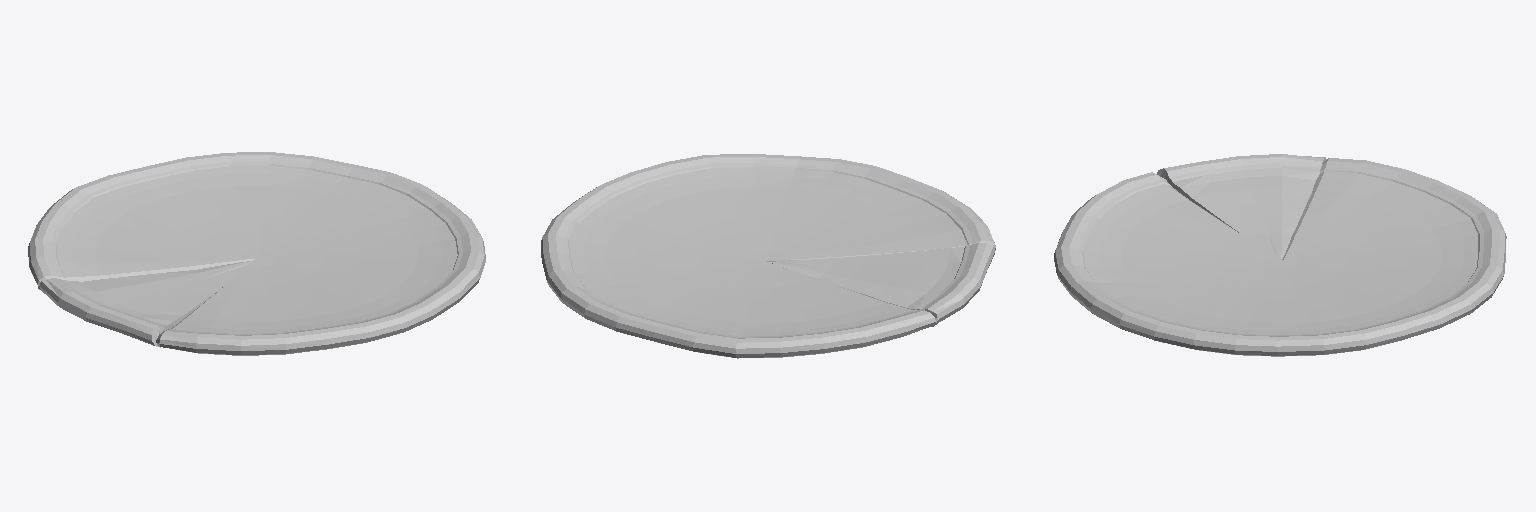
The model's file is Pizza.obj.
The picture shows the model from 3 angles: view 1: azimuth 30°, elevation 25°; view 2: azimuth 150°, elevation 25°; view 3: azimuth 270°, elevation 25°; orthographic projection.
Visible parts, largest first — view 1: pizza1; view 2: pizza1; view 3: pizza1.
Boxes of the visible parts, x1,y1,x2,y2 form: pizza1: [28, 152, 485, 355]; pizza1: [541, 154, 995, 358]; pizza1: [1054, 154, 1506, 356].
Size of the model in its own units: 2.5 by 0.1285 by 2.49.